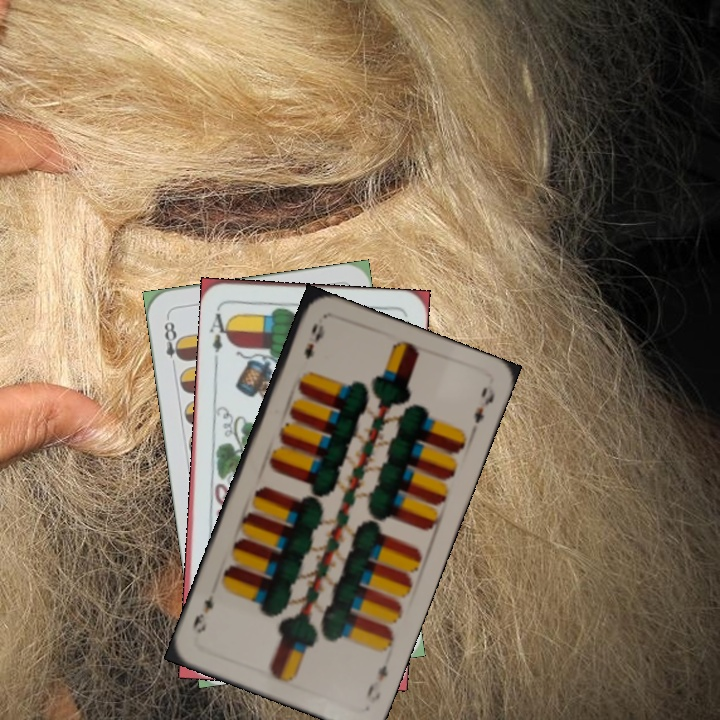E8: (160, 313, 187, 372)
E9: (362, 661, 391, 707), (300, 319, 327, 362)
EA: (205, 304, 233, 355)
